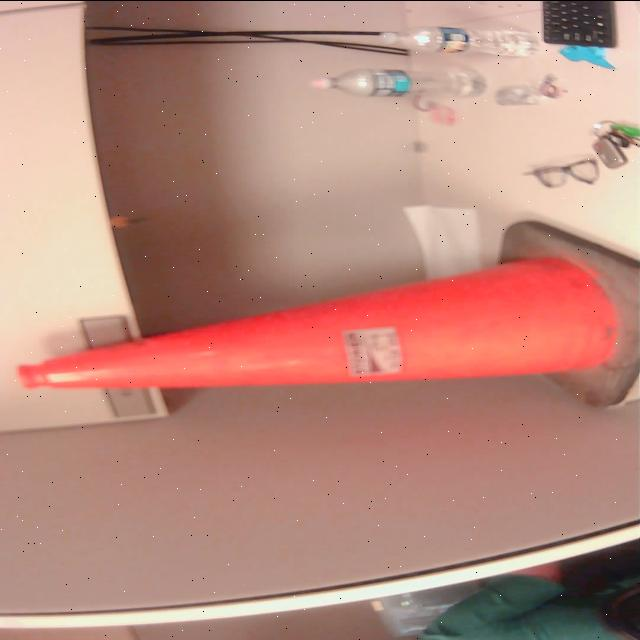traffic cone: (13, 217, 640, 414)
